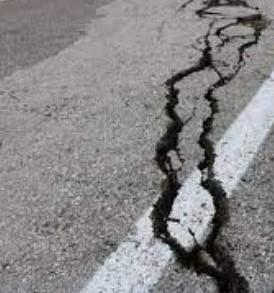alligator-crack: (201, 21, 256, 48)
crack: (151, 50, 256, 293), (173, 0, 196, 24)
pothole: (240, 10, 271, 37), (201, 0, 261, 11)
